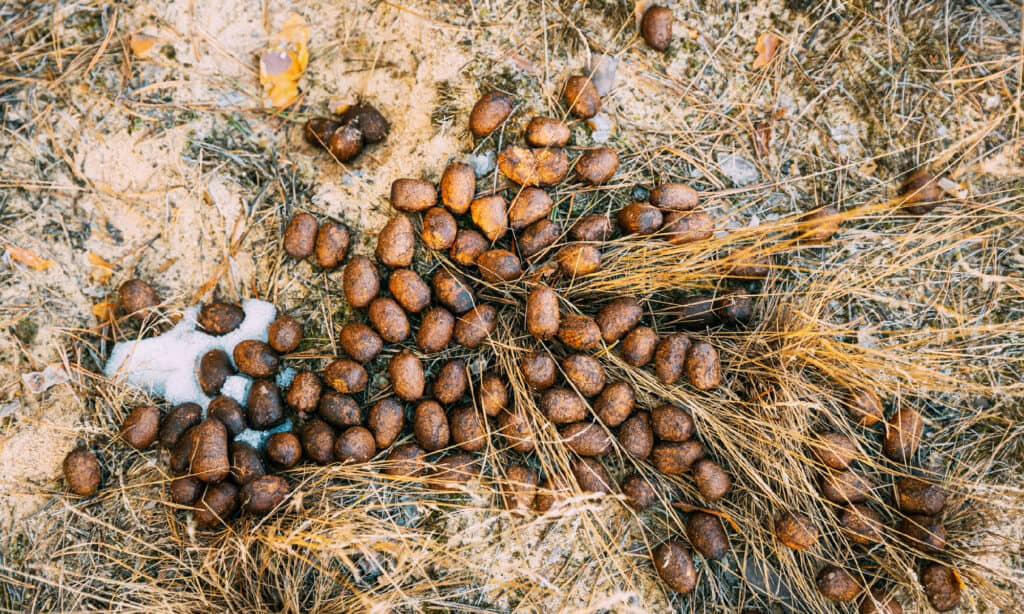Elk: (330, 224, 711, 452), (103, 277, 371, 476), (453, 96, 631, 239)
